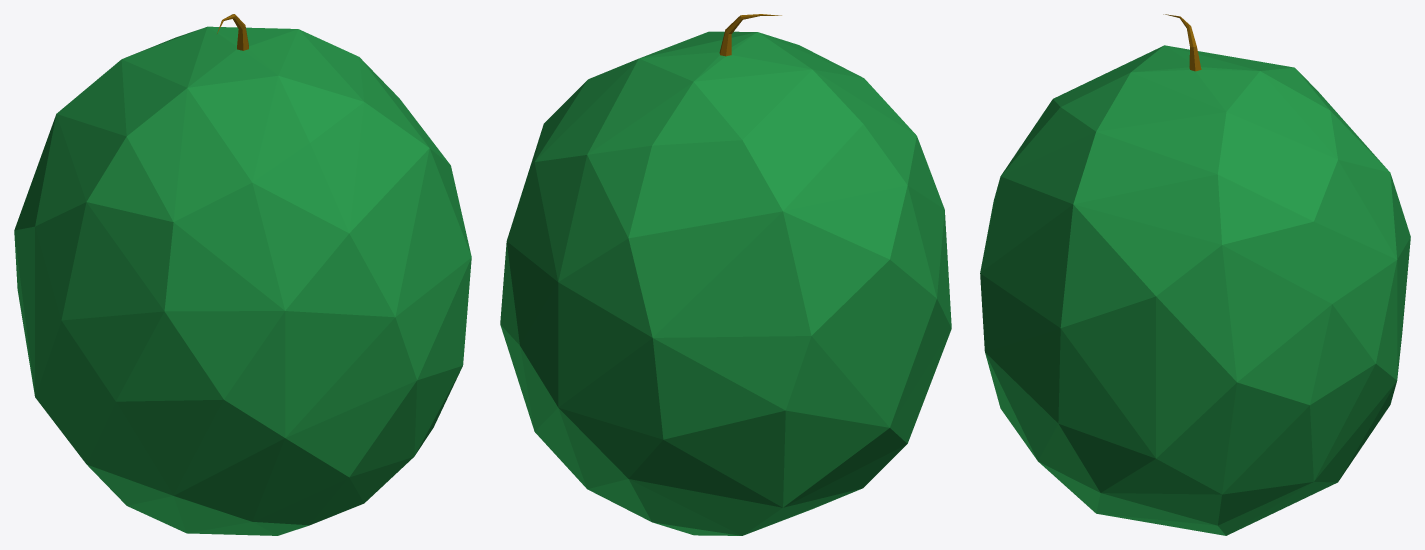
File: watermelon.fbx
3 views of the same model, side by side, from view 1: azimuth 30°, elevation 25°; view 2: azimuth 150°, elevation 25°; view 3: azimuth 270°, elevation 25° (orthographic). The views are drawn at different scales.
Visible parts, largest first — view 1: Icosphere; view 2: Icosphere; view 3: Icosphere.
Boxes of the visible parts, box(x1,y1,x2,y2) form: Icosphere: box(14, 14, 471, 535); Icosphere: box(500, 14, 951, 535); Icosphere: box(980, 14, 1410, 535).
Size of the model in its own units: 200 by 245 by 198.
